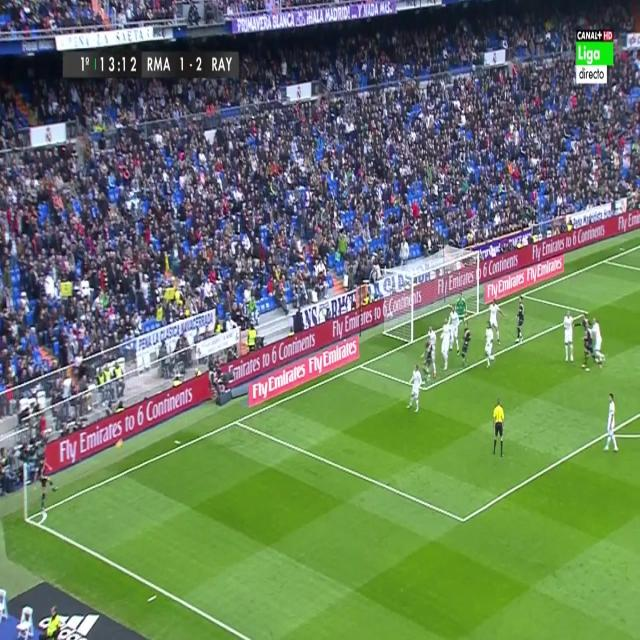Ball: (113, 436, 126, 452)
Goalkeeper: (456, 292, 470, 330)
Player: (34, 452, 58, 517), (603, 390, 620, 455), (576, 309, 592, 374), (407, 360, 423, 414), (489, 298, 506, 345), (513, 291, 527, 347), (439, 316, 452, 376), (561, 309, 574, 366), (592, 311, 604, 367), (458, 319, 472, 367), (482, 317, 494, 371), (451, 304, 463, 355), (427, 324, 438, 376)
Referee: (490, 398, 506, 462)
